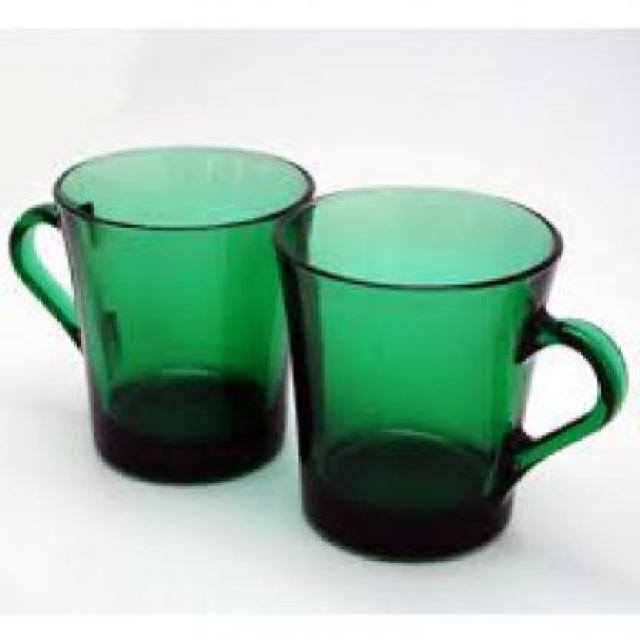glass: (277, 186, 635, 559), (12, 143, 317, 482)
